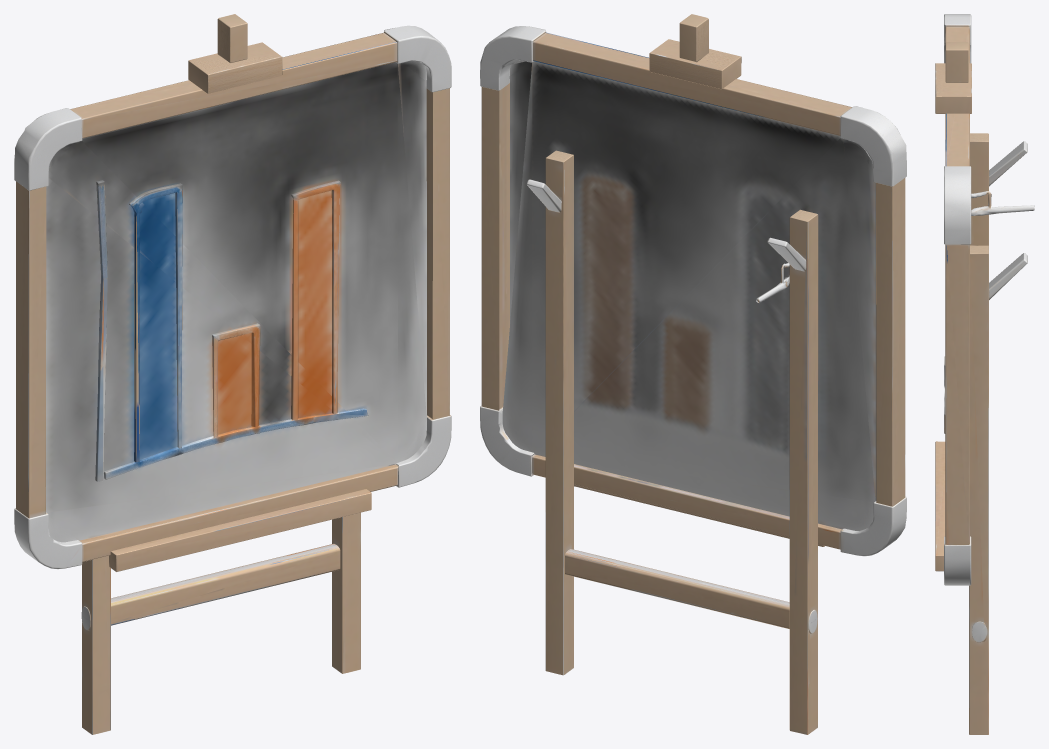
File: easel-board.raw.glb
The picture shows the model from 3 angles, left to right: view 1: azimuth 30°, elevation 25°; view 2: azimuth 150°, elevation 25°; view 3: azimuth 270°, elevation 25°; orthographic projection. The views are drawn at different scales.
Bounding box in the file's own units: 0.6138 × 0.9517 × 0.1362.
Materials: 1 (1 with a texture image).
